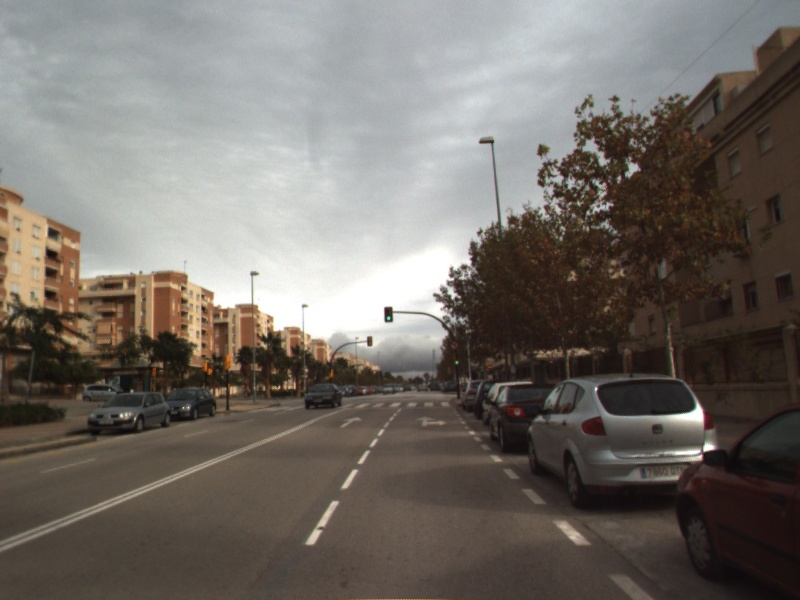STRAIGHT: (338, 414, 365, 430)
STRAIGHT_RIGHT: (414, 415, 449, 428)
